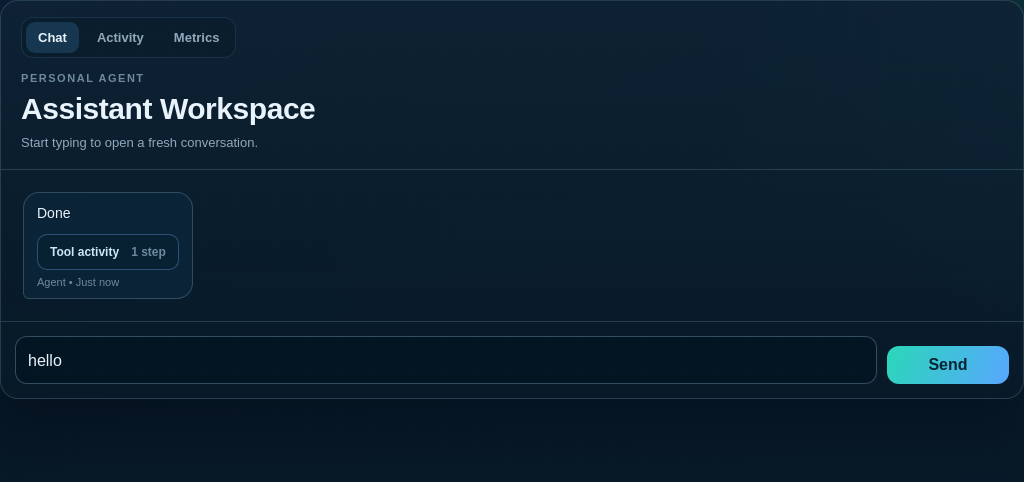
Test case: ChatPanel tool activity disclosure › tool details are collapsed by default and expand on demand
Expected: the text "Input:" is not shown
Click the heading "Tool activity 1 step" at {"x": 108, "y": 252}, box left=50, top=245, right=166, bottom=259
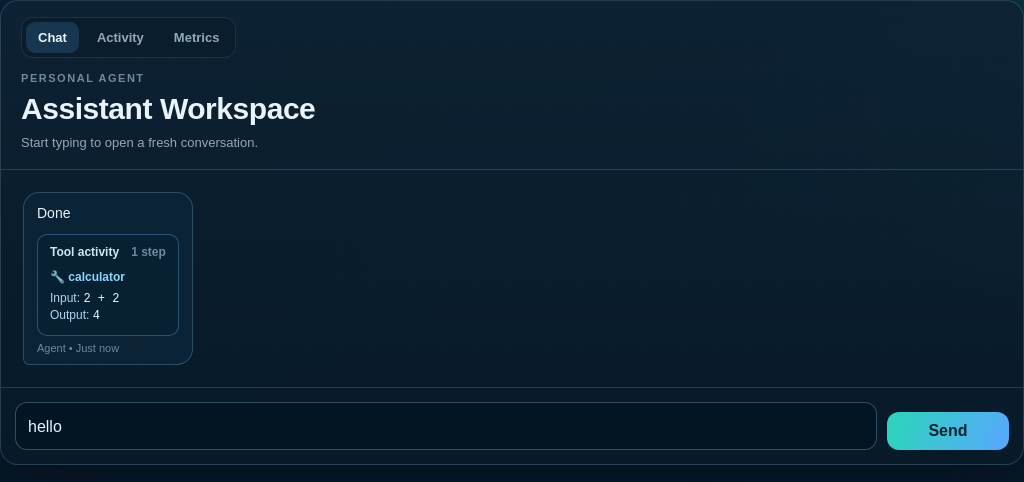
Now the text "Input:" is shown, box left=50, top=291, right=80, bottom=305
Now the text "Output:" is shown, box left=50, top=308, right=89, bottom=322
